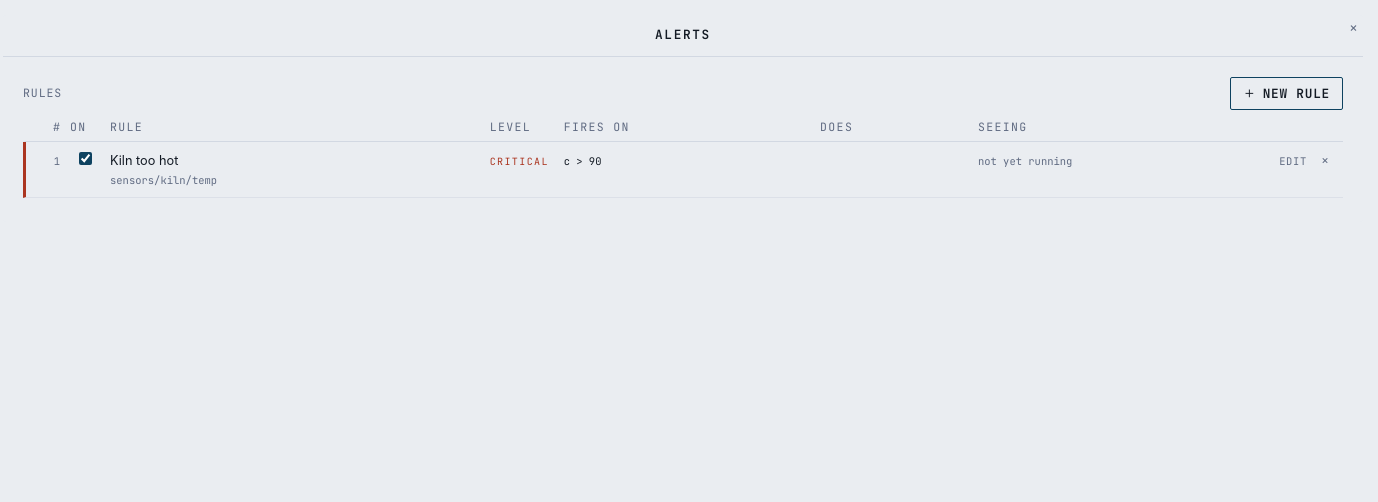
Test case: AlertsPanel › goes straight back from a rule nobody typed into
Click the button with aria-label "Edit Kiln too hot".
click(1293, 161)  # box left=1273, top=150, right=1313, bottom=172
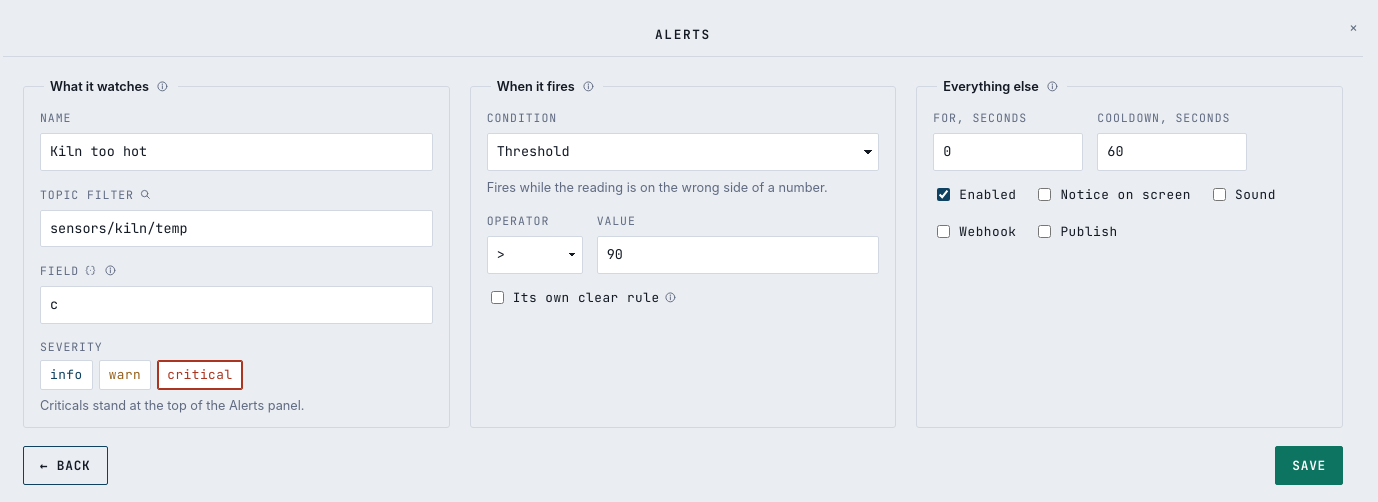
Click the button "← Back".
click(65, 466)  # box left=23, top=446, right=108, bottom=485
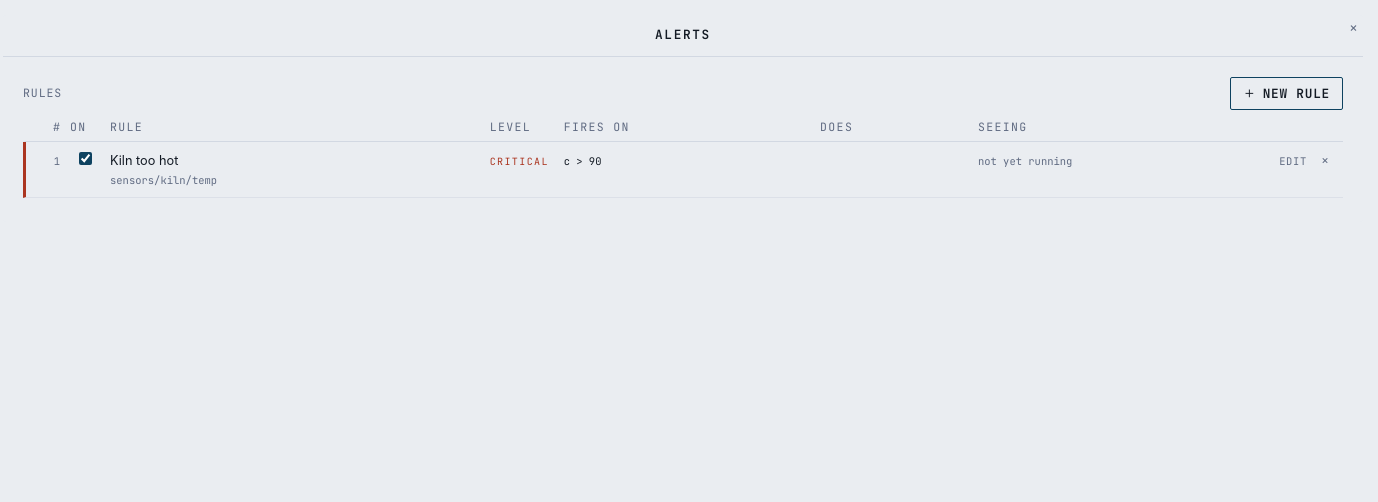
Now the element with test id "alert-rule" is shown, box left=23, top=142, right=1343, bottom=198
Now the label labelled "Name" is gone
